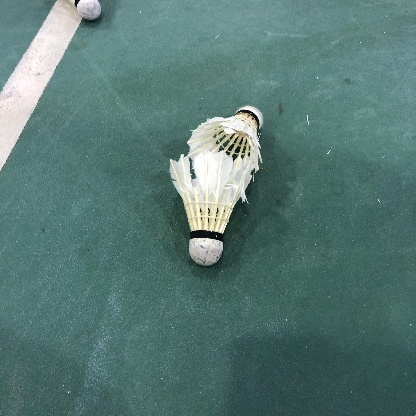ball_single: (169, 150, 253, 266), (188, 106, 263, 174), (67, 0, 101, 21)
